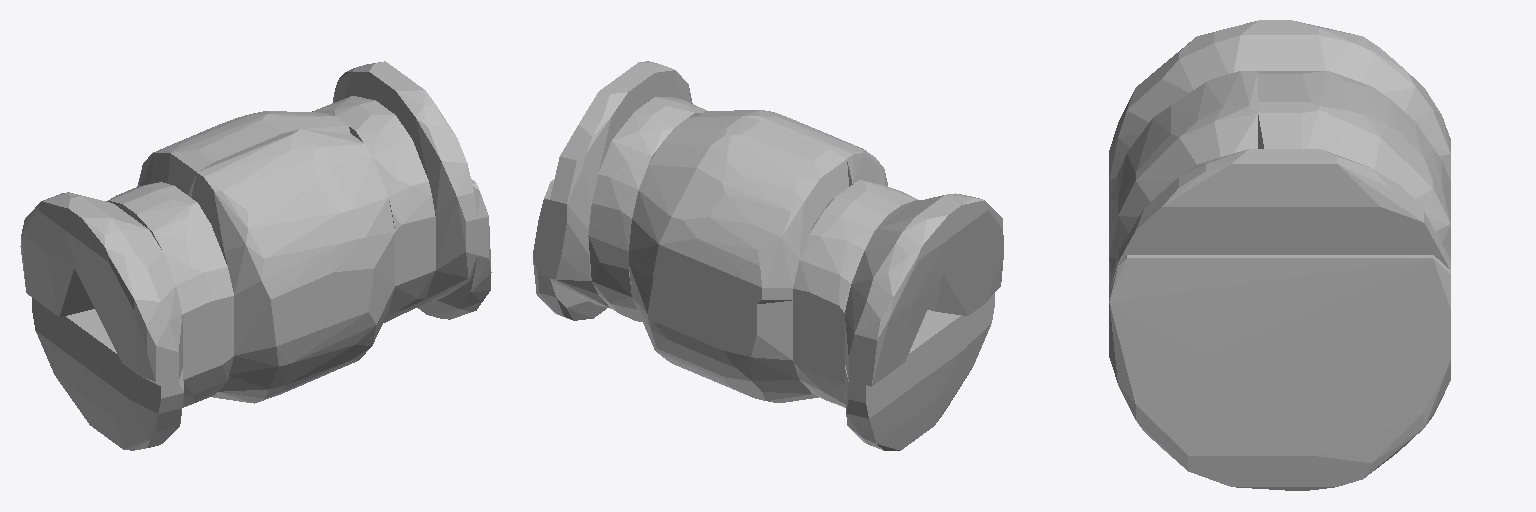
robot.urdf — root:
<robot name="root">
  <link name="link_thingiverse~double_belt_pulley_4984500_convex_piece_0">
    <inertial>
      <origin rpy="0 0 0" xyz="0 0 0"/>
      <mass value="2.37E-02"/>
      <inertia ixx="4.79E-06" ixy="7.94E-08" ixz="1.82E-06" iyy="1.29E-05" iyz="1.54E-08" izz="1.23E-05"/>
    </inertial>
    <visual>
      <origin rpy="0 0 0" xyz="0 0 0"/>
      <geometry>
        <mesh filename="thingiverse~double_belt_pulley_4984500_convex_piece_0.obj" scale="1.0000E+00 1.0000E+00 1.0000E+00"/>
      </geometry>
      <material name="">
        <color rgba="7.50E-01 7.50E-01 7.50E-01 1"/>
      </material>
    </visual>
    <collision>
      <origin rpy="0 0 0" xyz="0 0 0"/>
      <geometry>
        <mesh filename="thingiverse~double_belt_pulley_4984500_convex_piece_0.obj" scale="1.0000E+00 1.0000E+00 1.0000E+00"/>
      </geometry>
    </collision>
  </link>
  <link name="link_thingiverse~double_belt_pulley_4984500_convex_piece_1">
    <inertial>
      <origin rpy="0 0 0" xyz="0 0 0"/>
      <mass value="8.75E-03"/>
      <inertia ixx="3.78E-06" ixy="2.95E-08" ixz="4.24E-06" iyy="1.01E-05" iyz="1.12E-08" izz="8.60E-06"/>
    </inertial>
    <visual>
      <origin rpy="0 0 0" xyz="0 0 0"/>
      <geometry>
        <mesh filename="thingiverse~double_belt_pulley_4984500_convex_piece_1.obj" scale="1.0000E+00 1.0000E+00 1.0000E+00"/>
      </geometry>
      <material name="">
        <color rgba="7.50E-01 7.50E-01 7.50E-01 1"/>
      </material>
    </visual>
    <collision>
      <origin rpy="0 0 0" xyz="0 0 0"/>
      <geometry>
        <mesh filename="thingiverse~double_belt_pulley_4984500_convex_piece_1.obj" scale="1.0000E+00 1.0000E+00 1.0000E+00"/>
      </geometry>
    </collision>
  </link>
  <joint name="link_thingiverse~double_belt_pulley_4984500_convex_piece_1_joint" type="fixed">
    <origin rpy="0 0 0" xyz="0 0 0"/>
    <parent link="link_thingiverse~double_belt_pulley_4984500_convex_piece_0"/>
    <child link="link_thingiverse~double_belt_pulley_4984500_convex_piece_1"/>
  </joint>
  <link name="link_thingiverse~double_belt_pulley_4984500_convex_piece_2">
    <inertial>
      <origin rpy="0 0 0" xyz="0 0 0"/>
      <mass value="4.32E-02"/>
      <inertia ixx="1.25E-05" ixy="-4.93E-07" ixz="2.93E-07" iyy="9.16E-06" iyz="-3.40E-12" izz="1.05E-05"/>
    </inertial>
    <visual>
      <origin rpy="0 0 0" xyz="0 0 0"/>
      <geometry>
        <mesh filename="thingiverse~double_belt_pulley_4984500_convex_piece_2.obj" scale="1.0000E+00 1.0000E+00 1.0000E+00"/>
      </geometry>
      <material name="">
        <color rgba="7.50E-01 7.50E-01 7.50E-01 1"/>
      </material>
    </visual>
    <collision>
      <origin rpy="0 0 0" xyz="0 0 0"/>
      <geometry>
        <mesh filename="thingiverse~double_belt_pulley_4984500_convex_piece_2.obj" scale="1.0000E+00 1.0000E+00 1.0000E+00"/>
      </geometry>
    </collision>
  </link>
  <joint name="link_thingiverse~double_belt_pulley_4984500_convex_piece_2_joint" type="fixed">
    <origin rpy="0 0 0" xyz="0 0 0"/>
    <parent link="link_thingiverse~double_belt_pulley_4984500_convex_piece_1"/>
    <child link="link_thingiverse~double_belt_pulley_4984500_convex_piece_2"/>
  </joint>
  <link name="link_thingiverse~double_belt_pulley_4984500_convex_piece_3">
    <inertial>
      <origin rpy="0 0 0" xyz="0 0 0"/>
      <mass value="1.85E-02"/>
      <inertia ixx="3.74E-06" ixy="4.84E-08" ixz="1.47E-06" iyy="1.09E-05" iyz="1.60E-08" izz="1.06E-05"/>
    </inertial>
    <visual>
      <origin rpy="0 0 0" xyz="0 0 0"/>
      <geometry>
        <mesh filename="thingiverse~double_belt_pulley_4984500_convex_piece_3.obj" scale="1.0000E+00 1.0000E+00 1.0000E+00"/>
      </geometry>
      <material name="">
        <color rgba="7.50E-01 7.50E-01 7.50E-01 1"/>
      </material>
    </visual>
    <collision>
      <origin rpy="0 0 0" xyz="0 0 0"/>
      <geometry>
        <mesh filename="thingiverse~double_belt_pulley_4984500_convex_piece_3.obj" scale="1.0000E+00 1.0000E+00 1.0000E+00"/>
      </geometry>
    </collision>
  </link>
  <joint name="link_thingiverse~double_belt_pulley_4984500_convex_piece_3_joint" type="fixed">
    <origin rpy="0 0 0" xyz="0 0 0"/>
    <parent link="link_thingiverse~double_belt_pulley_4984500_convex_piece_2"/>
    <child link="link_thingiverse~double_belt_pulley_4984500_convex_piece_3"/>
  </joint>
  <link name="link_thingiverse~double_belt_pulley_4984500_convex_piece_4">
    <inertial>
      <origin rpy="0 0 0" xyz="0 0 0"/>
      <mass value="8.13E-03"/>
      <inertia ixx="1.66E-06" ixy="2.58E-06" ixz="-1.19E-06" iyy="8.54E-06" iyz="-1.97E-07" izz="9.19E-06"/>
    </inertial>
    <visual>
      <origin rpy="0 0 0" xyz="0 0 0"/>
      <geometry>
        <mesh filename="thingiverse~double_belt_pulley_4984500_convex_piece_4.obj" scale="1.0000E+00 1.0000E+00 1.0000E+00"/>
      </geometry>
      <material name="">
        <color rgba="7.50E-01 7.50E-01 7.50E-01 1"/>
      </material>
    </visual>
    <collision>
      <origin rpy="0 0 0" xyz="0 0 0"/>
      <geometry>
        <mesh filename="thingiverse~double_belt_pulley_4984500_convex_piece_4.obj" scale="1.0000E+00 1.0000E+00 1.0000E+00"/>
      </geometry>
    </collision>
  </link>
  <joint name="link_thingiverse~double_belt_pulley_4984500_convex_piece_4_joint" type="fixed">
    <origin rpy="0 0 0" xyz="0 0 0"/>
    <parent link="link_thingiverse~double_belt_pulley_4984500_convex_piece_3"/>
    <child link="link_thingiverse~double_belt_pulley_4984500_convex_piece_4"/>
  </joint>
  <link name="link_thingiverse~double_belt_pulley_4984500_convex_piece_5">
    <inertial>
      <origin rpy="0 0 0" xyz="0 0 0"/>
      <mass value="6.92E-03"/>
      <inertia ixx="1.50E-06" ixy="-2.47E-06" ixz="-9.35E-07" iyy="7.27E-06" iyz="2.01E-07" izz="7.96E-06"/>
    </inertial>
    <visual>
      <origin rpy="0 0 0" xyz="0 0 0"/>
      <geometry>
        <mesh filename="thingiverse~double_belt_pulley_4984500_convex_piece_5.obj" scale="1.0000E+00 1.0000E+00 1.0000E+00"/>
      </geometry>
      <material name="">
        <color rgba="7.50E-01 7.50E-01 7.50E-01 1"/>
      </material>
    </visual>
    <collision>
      <origin rpy="0 0 0" xyz="0 0 0"/>
      <geometry>
        <mesh filename="thingiverse~double_belt_pulley_4984500_convex_piece_5.obj" scale="1.0000E+00 1.0000E+00 1.0000E+00"/>
      </geometry>
    </collision>
  </link>
  <joint name="link_thingiverse~double_belt_pulley_4984500_convex_piece_5_joint" type="fixed">
    <origin rpy="0 0 0" xyz="0 0 0"/>
    <parent link="link_thingiverse~double_belt_pulley_4984500_convex_piece_4"/>
    <child link="link_thingiverse~double_belt_pulley_4984500_convex_piece_5"/>
  </joint>
  <link name="link_thingiverse~double_belt_pulley_4984500_convex_piece_6">
    <inertial>
      <origin rpy="0 0 0" xyz="0 0 0"/>
      <mass value="2.90E-02"/>
      <inertia ixx="8.23E-06" ixy="1.85E-07" ixz="-1.31E-07" iyy="6.75E-06" iyz="-2.20E-06" izz="6.19E-06"/>
    </inertial>
    <visual>
      <origin rpy="0 0 0" xyz="0 0 0"/>
      <geometry>
        <mesh filename="thingiverse~double_belt_pulley_4984500_convex_piece_6.obj" scale="1.0000E+00 1.0000E+00 1.0000E+00"/>
      </geometry>
      <material name="">
        <color rgba="7.50E-01 7.50E-01 7.50E-01 1"/>
      </material>
    </visual>
    <collision>
      <origin rpy="0 0 0" xyz="0 0 0"/>
      <geometry>
        <mesh filename="thingiverse~double_belt_pulley_4984500_convex_piece_6.obj" scale="1.0000E+00 1.0000E+00 1.0000E+00"/>
      </geometry>
    </collision>
  </link>
  <joint name="link_thingiverse~double_belt_pulley_4984500_convex_piece_6_joint" type="fixed">
    <origin rpy="0 0 0" xyz="0 0 0"/>
    <parent link="link_thingiverse~double_belt_pulley_4984500_convex_piece_5"/>
    <child link="link_thingiverse~double_belt_pulley_4984500_convex_piece_6"/>
  </joint>
  <link name="link_thingiverse~double_belt_pulley_4984500_convex_piece_7">
    <inertial>
      <origin rpy="0 0 0" xyz="0 0 0"/>
      <mass value="2.43E-02"/>
      <inertia ixx="7.30E-06" ixy="2.90E-07" ixz="4.46E-07" iyy="6.38E-06" iyz="2.17E-06" izz="4.97E-06"/>
    </inertial>
    <visual>
      <origin rpy="0 0 0" xyz="0 0 0"/>
      <geometry>
        <mesh filename="thingiverse~double_belt_pulley_4984500_convex_piece_7.obj" scale="1.0000E+00 1.0000E+00 1.0000E+00"/>
      </geometry>
      <material name="">
        <color rgba="7.50E-01 7.50E-01 7.50E-01 1"/>
      </material>
    </visual>
    <collision>
      <origin rpy="0 0 0" xyz="0 0 0"/>
      <geometry>
        <mesh filename="thingiverse~double_belt_pulley_4984500_convex_piece_7.obj" scale="1.0000E+00 1.0000E+00 1.0000E+00"/>
      </geometry>
    </collision>
  </link>
  <joint name="link_thingiverse~double_belt_pulley_4984500_convex_piece_7_joint" type="fixed">
    <origin rpy="0 0 0" xyz="0 0 0"/>
    <parent link="link_thingiverse~double_belt_pulley_4984500_convex_piece_6"/>
    <child link="link_thingiverse~double_belt_pulley_4984500_convex_piece_7"/>
  </joint>
  <link name="link_thingiverse~double_belt_pulley_4984500_convex_piece_8">
    <inertial>
      <origin rpy="0 0 0" xyz="0 0 0"/>
      <mass value="1.67E-02"/>
      <inertia ixx="4.80E-06" ixy="3.54E-08" ixz="3.31E-06" iyy="1.67E-05" iyz="9.14E-09" izz="1.61E-05"/>
    </inertial>
    <visual>
      <origin rpy="0 0 0" xyz="0 0 0"/>
      <geometry>
        <mesh filename="thingiverse~double_belt_pulley_4984500_convex_piece_8.obj" scale="1.0000E+00 1.0000E+00 1.0000E+00"/>
      </geometry>
      <material name="">
        <color rgba="7.50E-01 7.50E-01 7.50E-01 1"/>
      </material>
    </visual>
    <collision>
      <origin rpy="0 0 0" xyz="0 0 0"/>
      <geometry>
        <mesh filename="thingiverse~double_belt_pulley_4984500_convex_piece_8.obj" scale="1.0000E+00 1.0000E+00 1.0000E+00"/>
      </geometry>
    </collision>
  </link>
  <joint name="link_thingiverse~double_belt_pulley_4984500_convex_piece_8_joint" type="fixed">
    <origin rpy="0 0 0" xyz="0 0 0"/>
    <parent link="link_thingiverse~double_belt_pulley_4984500_convex_piece_7"/>
    <child link="link_thingiverse~double_belt_pulley_4984500_convex_piece_8"/>
  </joint>
  <link name="link_thingiverse~double_belt_pulley_4984500_convex_piece_9">
    <inertial>
      <origin rpy="0 0 0" xyz="0 0 0"/>
      <mass value="9.04E-03"/>
      <inertia ixx="1.91E-06" ixy="-3.72E-08" ixz="-9.40E-07" iyy="1.11E-05" iyz="-1.16E-08" izz="1.17E-05"/>
    </inertial>
    <visual>
      <origin rpy="0 0 0" xyz="0 0 0"/>
      <geometry>
        <mesh filename="thingiverse~double_belt_pulley_4984500_convex_piece_9.obj" scale="1.0000E+00 1.0000E+00 1.0000E+00"/>
      </geometry>
      <material name="">
        <color rgba="7.50E-01 7.50E-01 7.50E-01 1"/>
      </material>
    </visual>
    <collision>
      <origin rpy="0 0 0" xyz="0 0 0"/>
      <geometry>
        <mesh filename="thingiverse~double_belt_pulley_4984500_convex_piece_9.obj" scale="1.0000E+00 1.0000E+00 1.0000E+00"/>
      </geometry>
    </collision>
  </link>
  <joint name="link_thingiverse~double_belt_pulley_4984500_convex_piece_9_joint" type="fixed">
    <origin rpy="0 0 0" xyz="0 0 0"/>
    <parent link="link_thingiverse~double_belt_pulley_4984500_convex_piece_8"/>
    <child link="link_thingiverse~double_belt_pulley_4984500_convex_piece_9"/>
  </joint>
</robot>

--- Facts derived from the render (not from the file) ---
Views: 3 orthographic renders of the robot side by side, from view 1: azimuth 30°, elevation 25°; view 2: azimuth 150°, elevation 25°; view 3: azimuth 270°, elevation 25°.
Robot: root — 10 links, 9 joints (9 fixed); root link link_thingiverse~double_belt_pulley_4984500_convex_piece_0; default pose: every joint at zero.
Links seen in each view (by area): view 1: link_thingiverse~double_belt_pulley_4984500_convex_piece_2, link_thingiverse~double_belt_pulley_4984500_convex_piece_4, link_thingiverse~double_belt_pulley_4984500_convex_piece_0, link_thingiverse~double_belt_pulley_4984500_convex_piece_1, link_thingiverse~double_belt_pulley_4984500_convex_piece_8, link_thingiverse~double_belt_pulley_4984500_convex_piece_3, link_thingiverse~double_belt_pulley_4984500_convex_piece_7, link_thingiverse~double_belt_pulley_4984500_convex_piece_5, link_thingiverse~double_belt_pulley_4984500_convex_piece_9; view 2: link_thingiverse~double_belt_pulley_4984500_convex_piece_7, link_thingiverse~double_belt_pulley_4984500_convex_piece_6, link_thingiverse~double_belt_pulley_4984500_convex_piece_5, link_thingiverse~double_belt_pulley_4984500_convex_piece_0, link_thingiverse~double_belt_pulley_4984500_convex_piece_1, link_thingiverse~double_belt_pulley_4984500_convex_piece_8, link_thingiverse~double_belt_pulley_4984500_convex_piece_3, link_thingiverse~double_belt_pulley_4984500_convex_piece_4, link_thingiverse~double_belt_pulley_4984500_convex_piece_2, link_thingiverse~double_belt_pulley_4984500_convex_piece_9; view 3: link_thingiverse~double_belt_pulley_4984500_convex_piece_9, link_thingiverse~double_belt_pulley_4984500_convex_piece_8, link_thingiverse~double_belt_pulley_4984500_convex_piece_7, link_thingiverse~double_belt_pulley_4984500_convex_piece_2, link_thingiverse~double_belt_pulley_4984500_convex_piece_4, link_thingiverse~double_belt_pulley_4984500_convex_piece_5.
Boxes of the visible links, bbox=[...] form: link_thingiverse~double_belt_pulley_4984500_convex_piece_2: bbox=[191, 129, 394, 403]; link_thingiverse~double_belt_pulley_4984500_convex_piece_4: bbox=[69, 203, 182, 386]; link_thingiverse~double_belt_pulley_4984500_convex_piece_0: bbox=[106, 182, 233, 407]; link_thingiverse~double_belt_pulley_4984500_convex_piece_1: bbox=[32, 298, 183, 450]; link_thingiverse~double_belt_pulley_4984500_convex_piece_8: bbox=[333, 61, 477, 305]; link_thingiverse~double_belt_pulley_4984500_convex_piece_3: bbox=[312, 96, 435, 322]; link_thingiverse~double_belt_pulley_4984500_convex_piece_7: bbox=[137, 111, 350, 196]; link_thingiverse~double_belt_pulley_4984500_convex_piece_5: bbox=[20, 192, 125, 316]; link_thingiverse~double_belt_pulley_4984500_convex_piece_9: bbox=[417, 179, 491, 319]; link_thingiverse~double_belt_pulley_4984500_convex_piece_7: bbox=[629, 116, 848, 304]; link_thingiverse~double_belt_pulley_4984500_convex_piece_6: bbox=[629, 264, 818, 402]; link_thingiverse~double_belt_pulley_4984500_convex_piece_5: bbox=[845, 209, 948, 386]; link_thingiverse~double_belt_pulley_4984500_convex_piece_0: bbox=[793, 180, 919, 407]; link_thingiverse~double_belt_pulley_4984500_convex_piece_1: bbox=[845, 293, 994, 450]; link_thingiverse~double_belt_pulley_4984500_convex_piece_8: bbox=[550, 61, 692, 308]; link_thingiverse~double_belt_pulley_4984500_convex_piece_3: bbox=[588, 97, 706, 321]; link_thingiverse~double_belt_pulley_4984500_convex_piece_4: bbox=[892, 193, 1003, 315]; link_thingiverse~double_belt_pulley_4984500_convex_piece_2: bbox=[698, 110, 887, 186]; link_thingiverse~double_belt_pulley_4984500_convex_piece_9: bbox=[533, 180, 606, 320]; link_thingiverse~double_belt_pulley_4984500_convex_piece_9: bbox=[1109, 255, 1450, 490]; link_thingiverse~double_belt_pulley_4984500_convex_piece_8: bbox=[1109, 149, 1450, 293]; link_thingiverse~double_belt_pulley_4984500_convex_piece_7: bbox=[1258, 71, 1450, 258]; link_thingiverse~double_belt_pulley_4984500_convex_piece_2: bbox=[1109, 71, 1257, 285]; link_thingiverse~double_belt_pulley_4984500_convex_piece_4: bbox=[1109, 20, 1292, 199]; link_thingiverse~double_belt_pulley_4984500_convex_piece_5: bbox=[1293, 21, 1450, 180].
Size in the robot's own frame: 0.0753 by 0.0459 by 0.0565 metres.
10 mesh visuals loaded from 10 distinct referenced files (10 OBJ).
